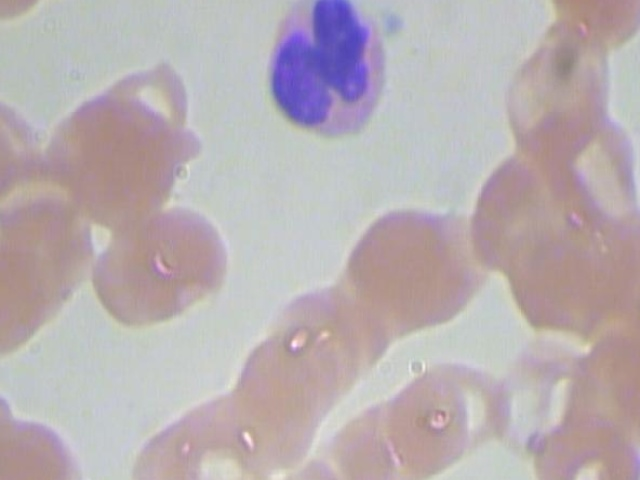Platelets: (379, 7, 407, 39)
WBC: (256, 0, 395, 148)
